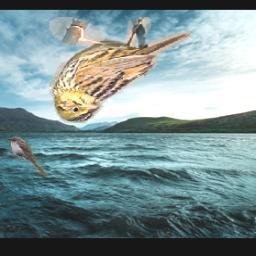Cuckoo: (7, 137, 48, 178)
Sparrow: (51, 18, 192, 124)
